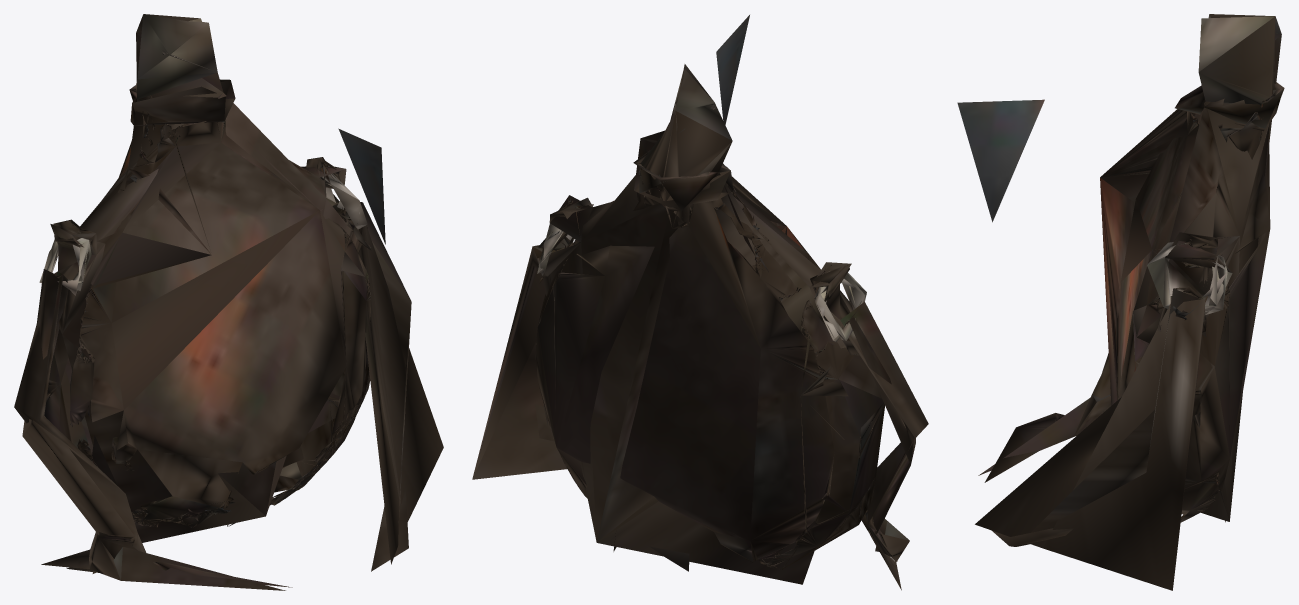
File: cantil_couro.glb
3 views of the same model, side by side, from view 1: azimuth 30°, elevation 25°; view 2: azimuth 150°, elevation 25°; view 3: azimuth 270°, elevation 25° (orthographic). The views are drawn at different scales.
Parts seen in each view (by area): view 1: geometry_0; view 2: geometry_0; view 3: geometry_0.
Boxes of the visible parts, x1,y1,x2,y2 form: geometry_0: (14,14,443,590); geometry_0: (472,15,928,590); geometry_0: (957,14,1284,590).
Bounding box in the file's own units: 0.9123 × 1 × 0.6049.
Materials: 1 (1 with a texture image).
